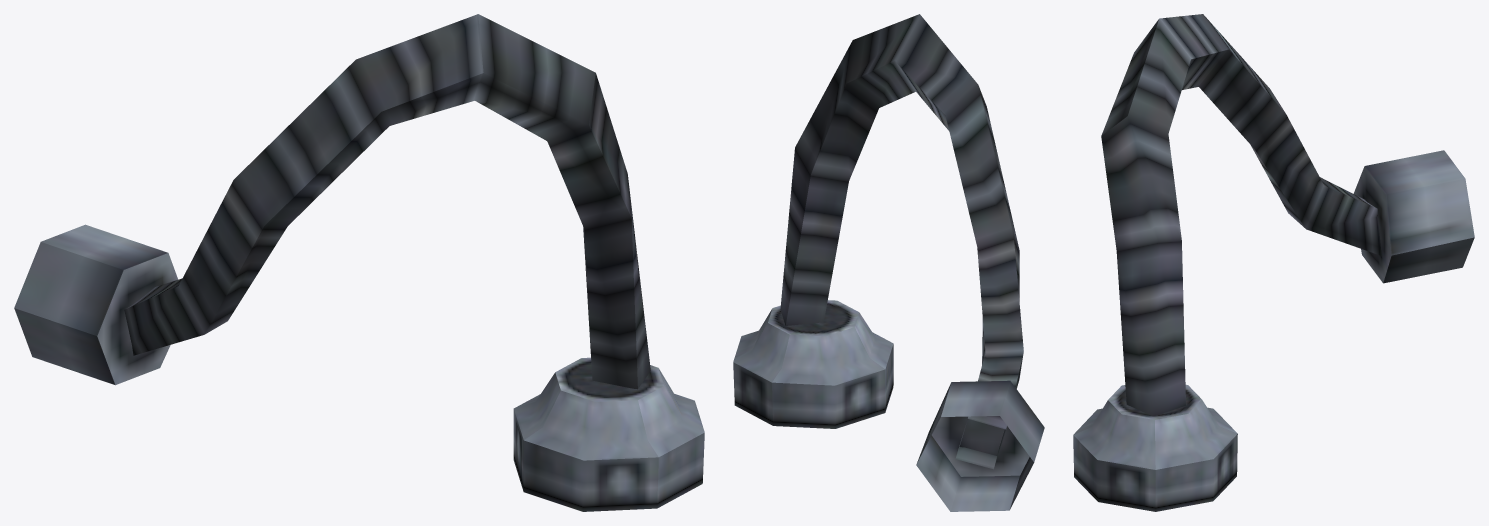
Rendered from SM_EN_1002_tong03.FBX.
3 renders of one model, left to right at view 1: azimuth 30°, elevation 25°; view 2: azimuth 150°, elevation 25°; view 3: azimuth 270°, elevation 25°, orthographic. The views are drawn at different scales.
Parts seen in each view (by area): view 1: SM_EN_1002_tong03; view 2: SM_EN_1002_tong03; view 3: SM_EN_1002_tong03.
Boxes of the visible parts, left/top/right/bottom form: SM_EN_1002_tong03: left=14, top=14, right=704, bottom=511; SM_EN_1002_tong03: left=733, top=14, right=1044, bottom=511; SM_EN_1002_tong03: left=1073, top=14, right=1474, bottom=511.
Bounding box in the file's own units: 27.5 × 24.96 × 22.32.
